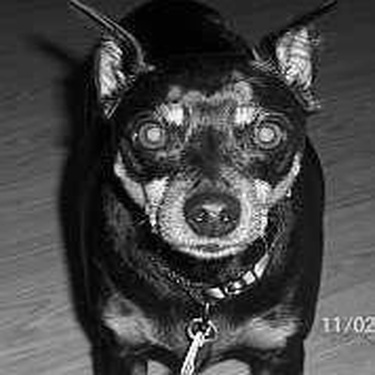dog: (50, 1, 337, 374)
